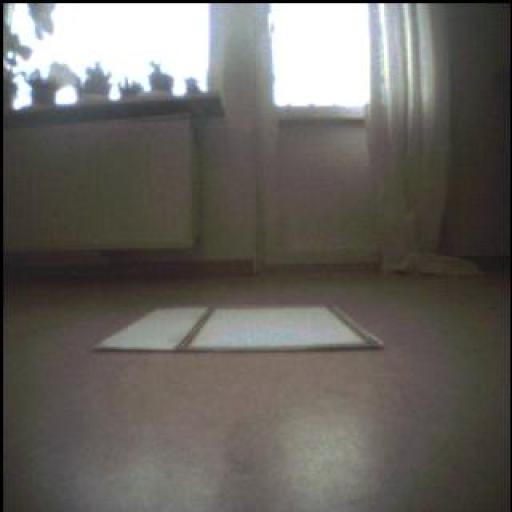Pad: (99, 295, 377, 349)
